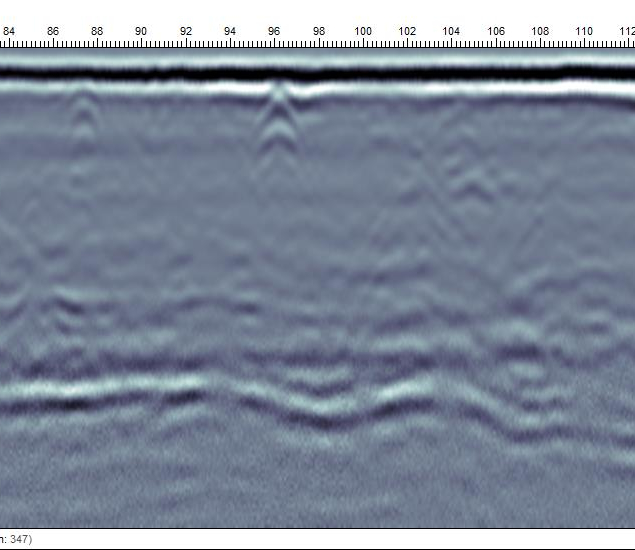hyperbola: (238, 97, 311, 180), (54, 88, 110, 160)
